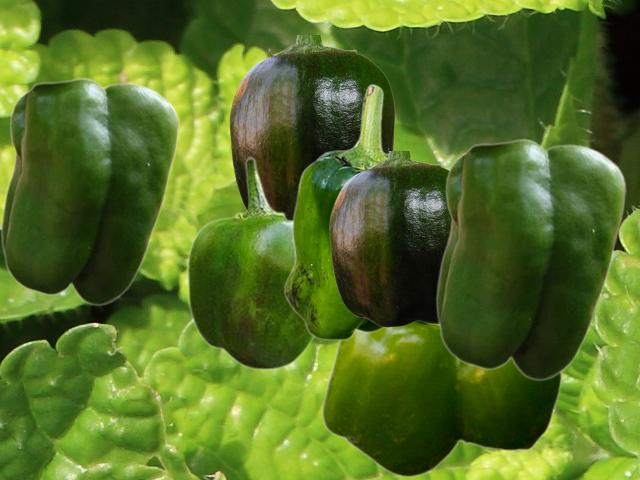bell_pepper: (435, 138, 626, 380), (0, 77, 179, 305), (321, 322, 561, 477), (229, 35, 394, 218), (186, 156, 315, 370), (283, 83, 387, 340), (329, 151, 449, 326)
